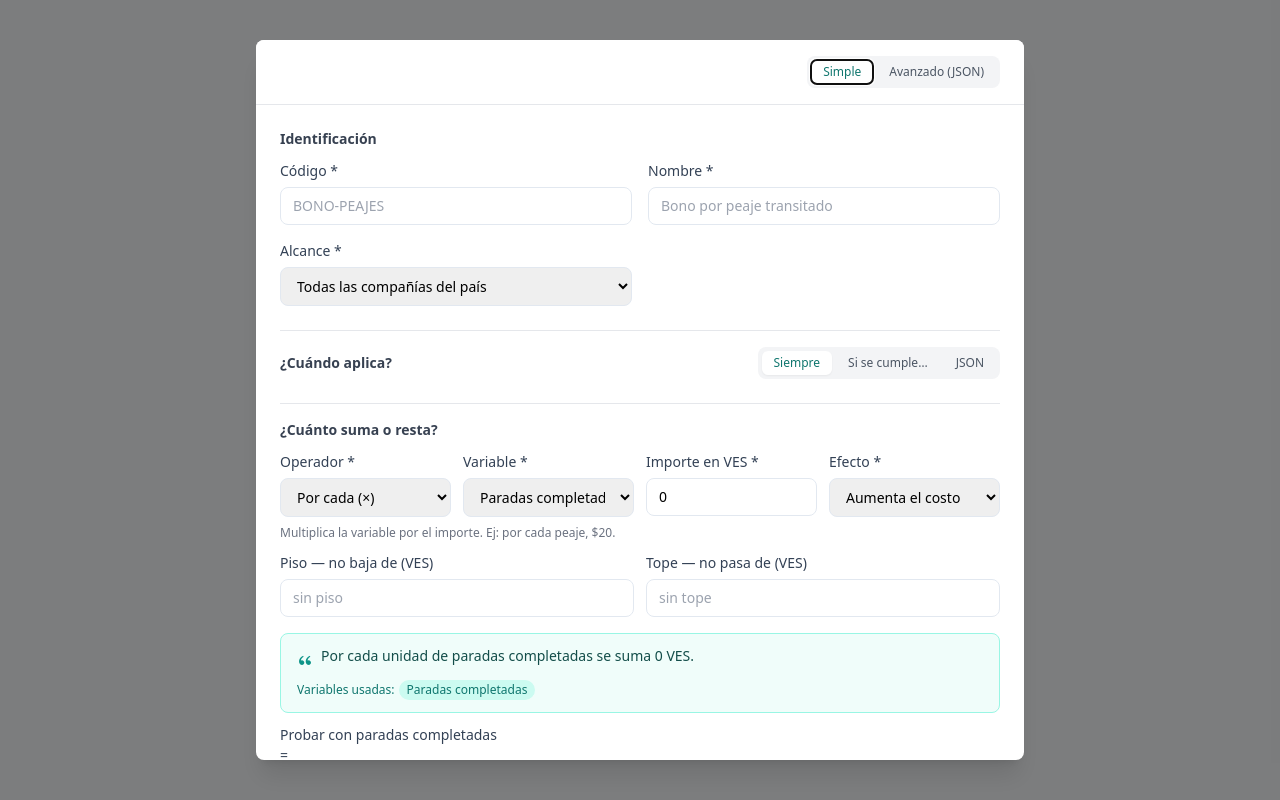
Test case: RuleModal (caracterización) › el probador evalúa el cálculo con un valor de ejemplo
Select "Monto fijo" in the dropdown labelled "Operador *": point(366, 498) top-left (280, 478), bottom-right (451, 517)
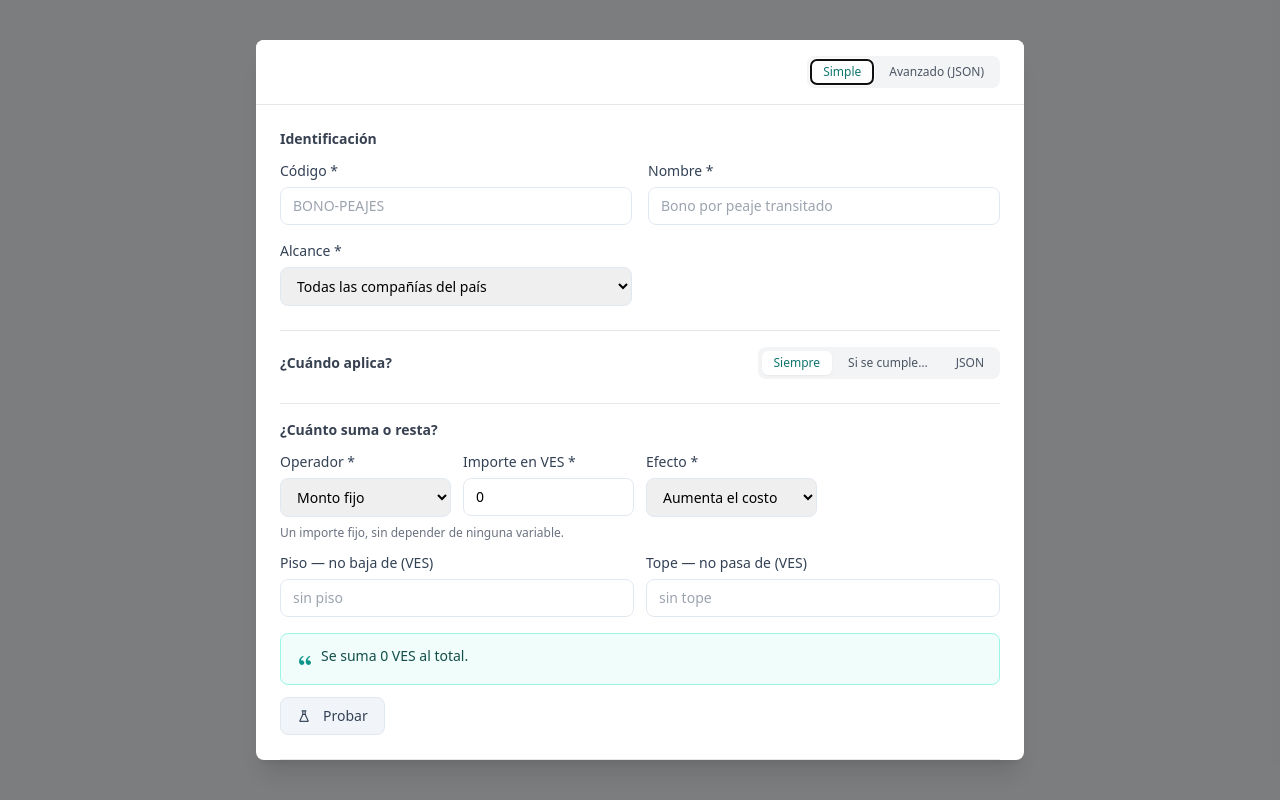
Replace the text in the field labelled "Importe en VES *" with "25": point(548, 497) top-left (463, 478), bottom-right (634, 516)
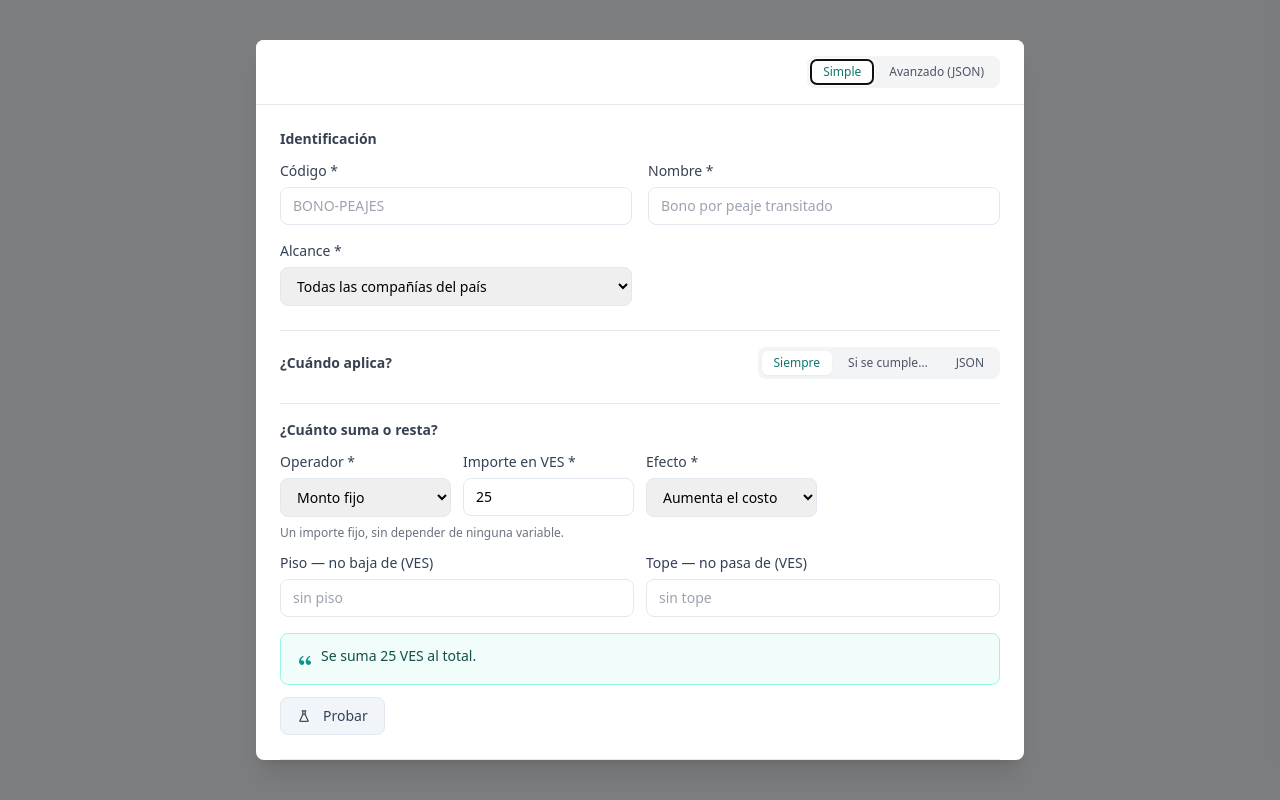
Click the button "Probar": point(332, 716) top-left (280, 697), bottom-right (385, 735)
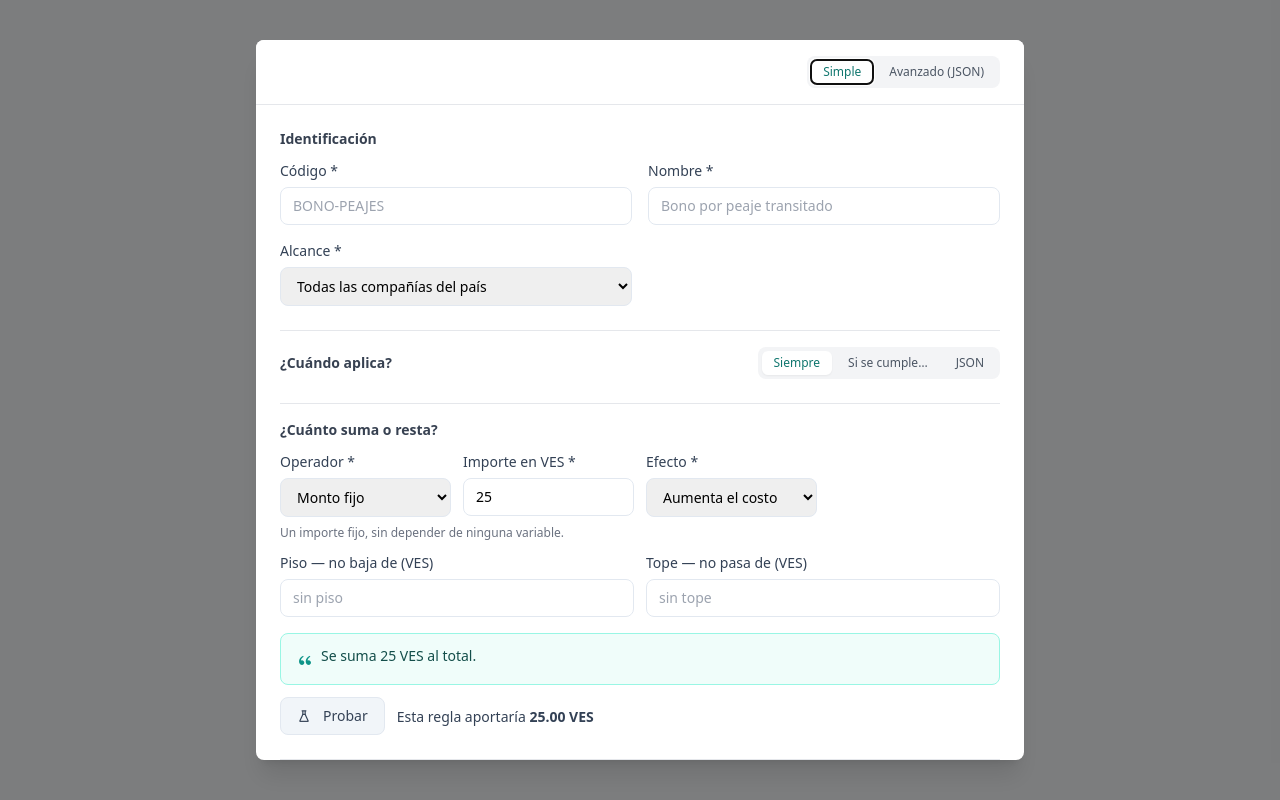
Check: the text "25.00 VES" is shown, box top-left (529, 707), bottom-right (594, 726)
